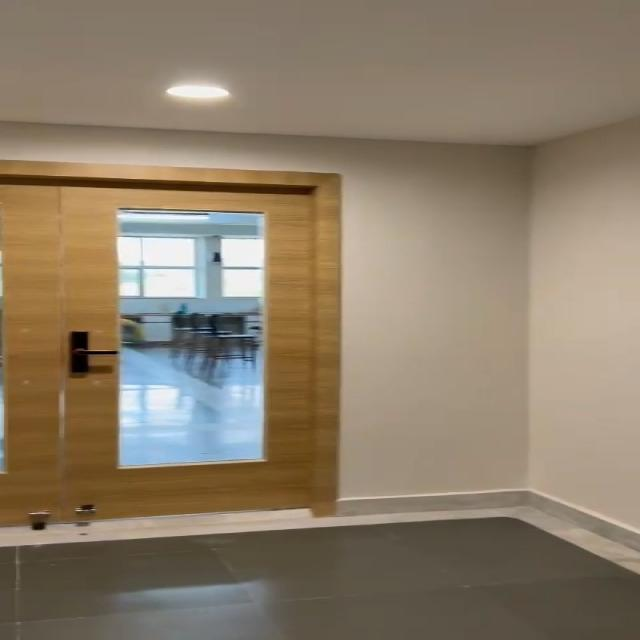door: (0, 156, 336, 524)
floor: (6, 533, 633, 640)
wall: (358, 132, 640, 484)
